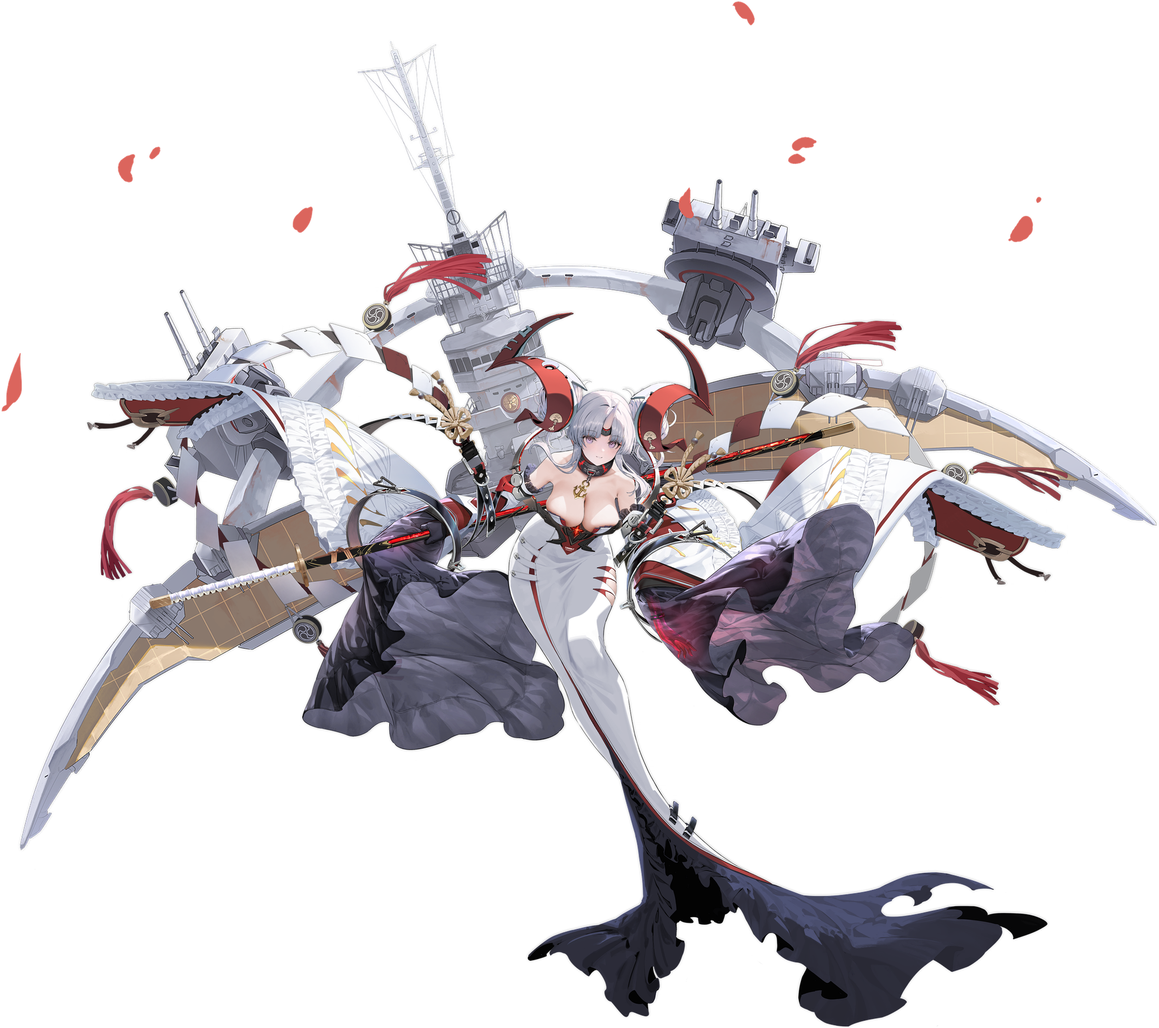person: (494, 367, 1069, 1024)
